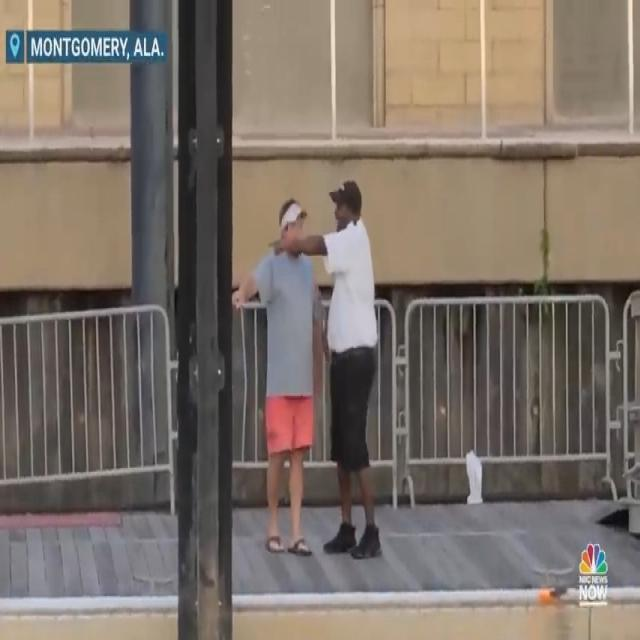non-fight: (222, 171, 388, 578)
